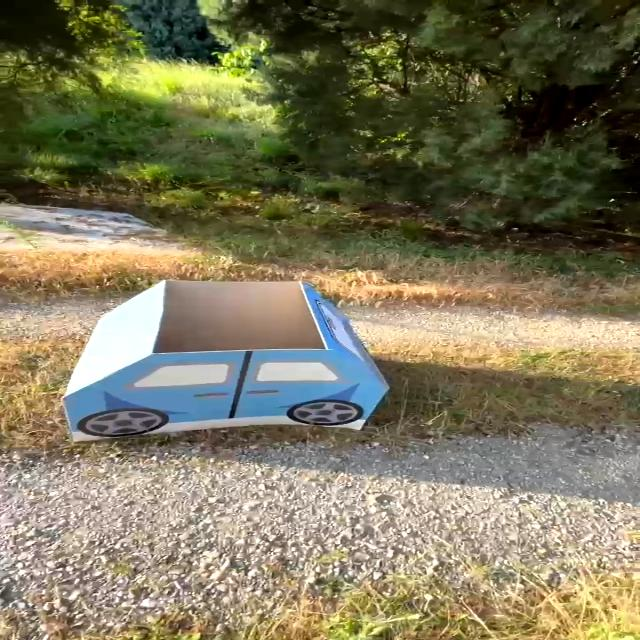blue_car: (39, 276, 415, 447)
